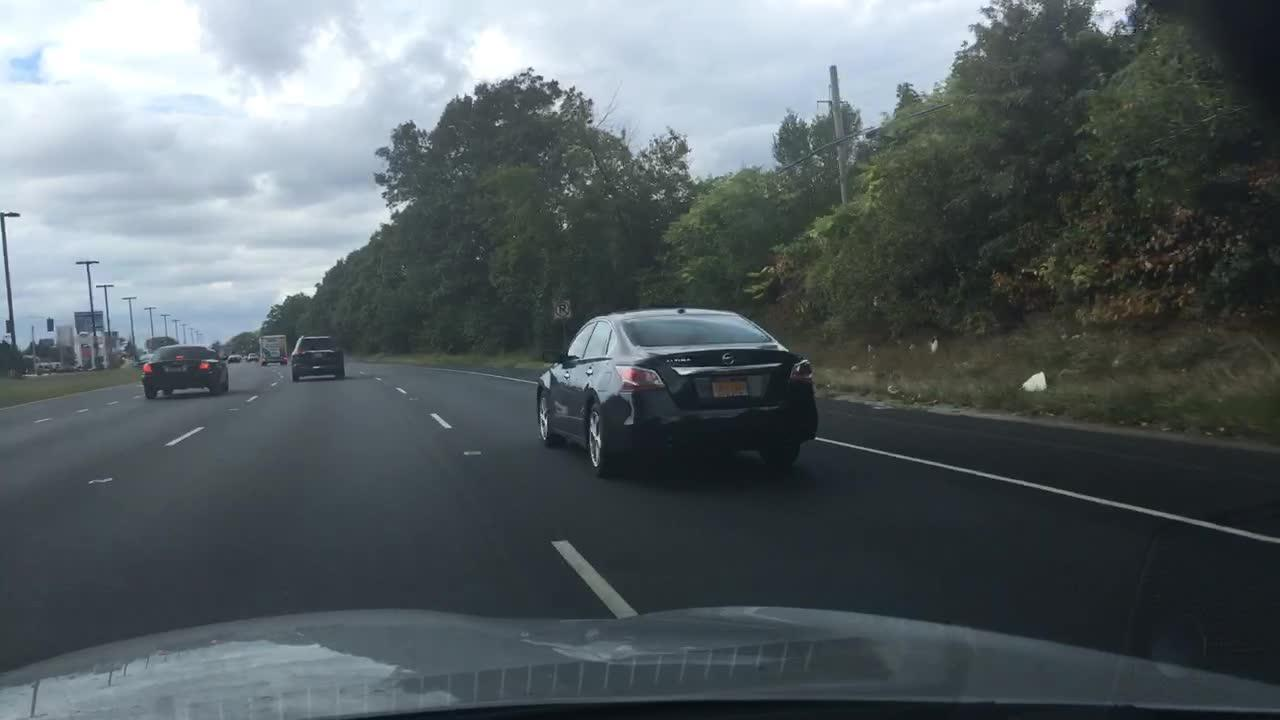Nissan: (716, 348, 743, 372)
